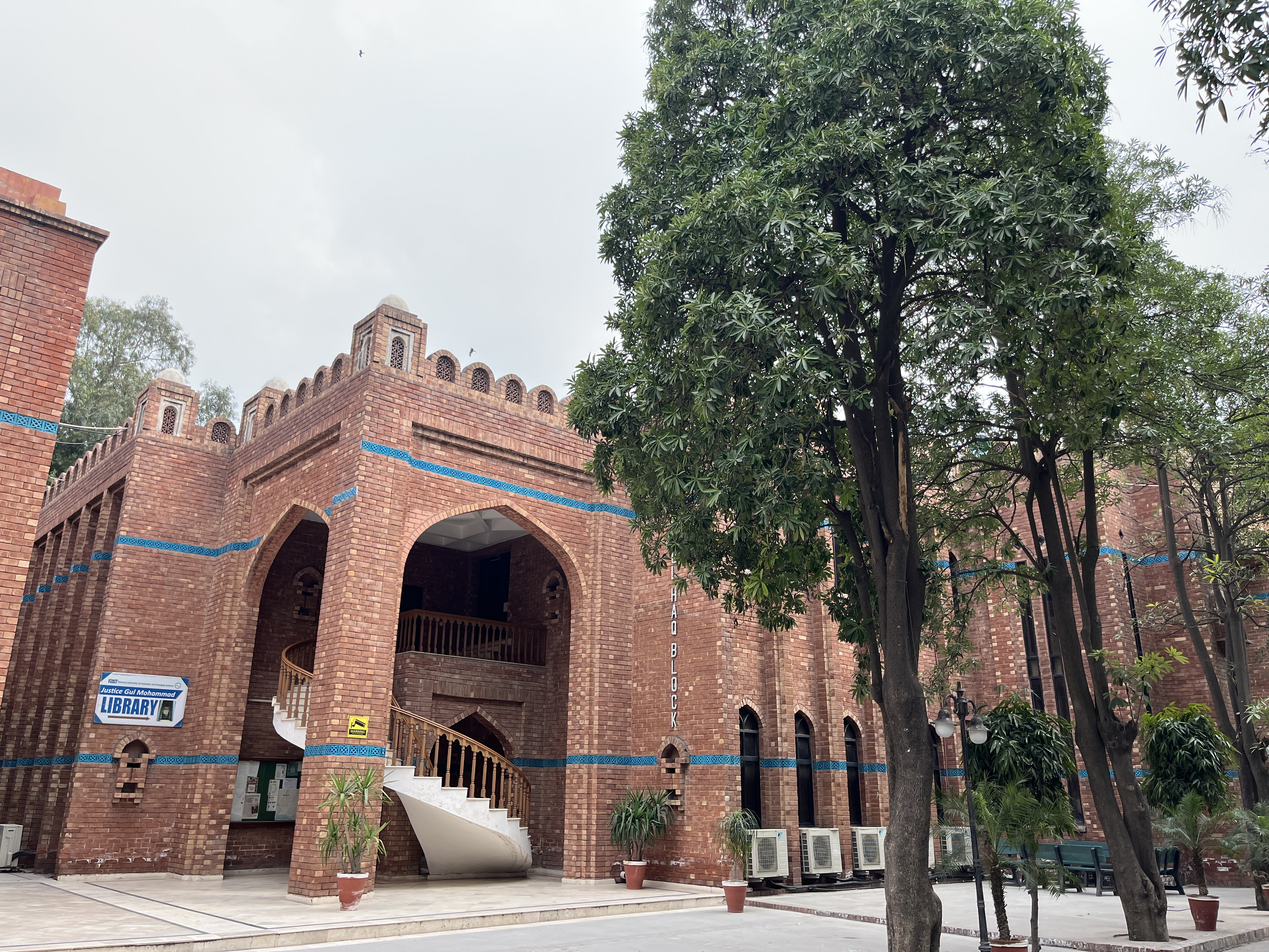Block E: (94, 294, 1269, 889)
